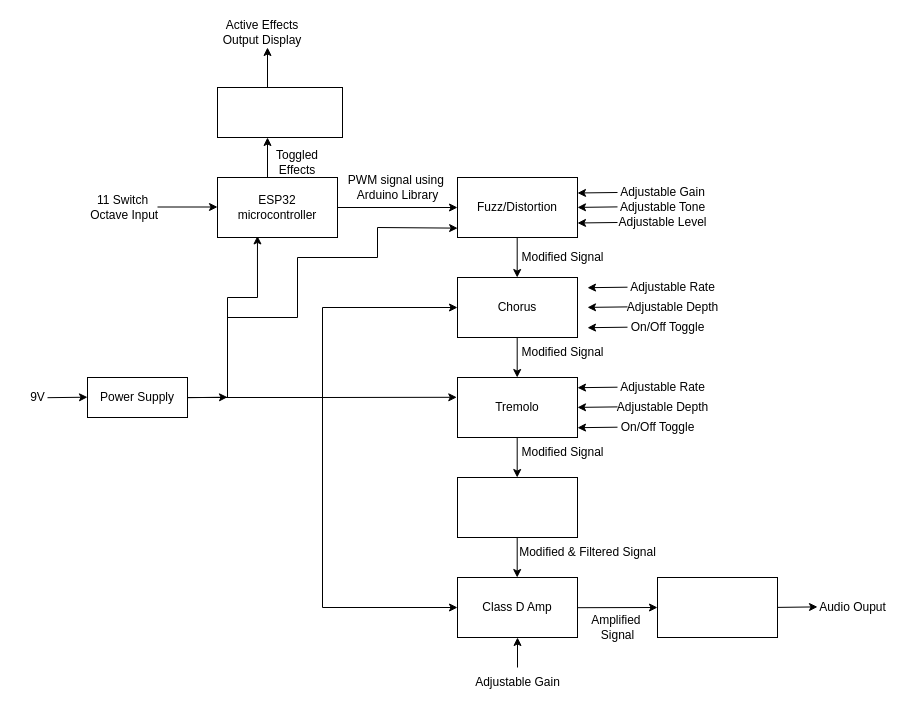
The diagram is 914 pixels wide and 714 high, and some of its shapes have lost their labels. Each missing label, with the box of its shape:
OLED Display: (216, 86, 342, 138)
Signal Noise Filter: (456, 476, 578, 538)
Speaker: (656, 576, 778, 638)
